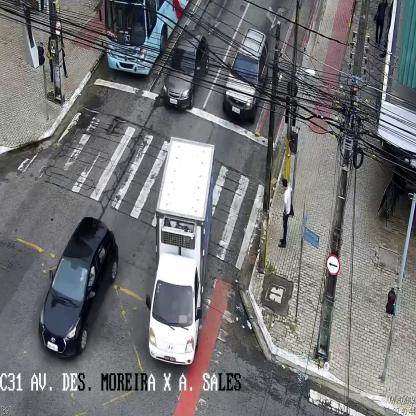bus: (99, 0, 191, 74)
car: (39, 217, 118, 354), (224, 27, 268, 123), (165, 32, 209, 110)
person: (278, 177, 294, 249)
truck: (146, 136, 214, 366)
